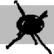not correct: (5, 0, 54, 54)
